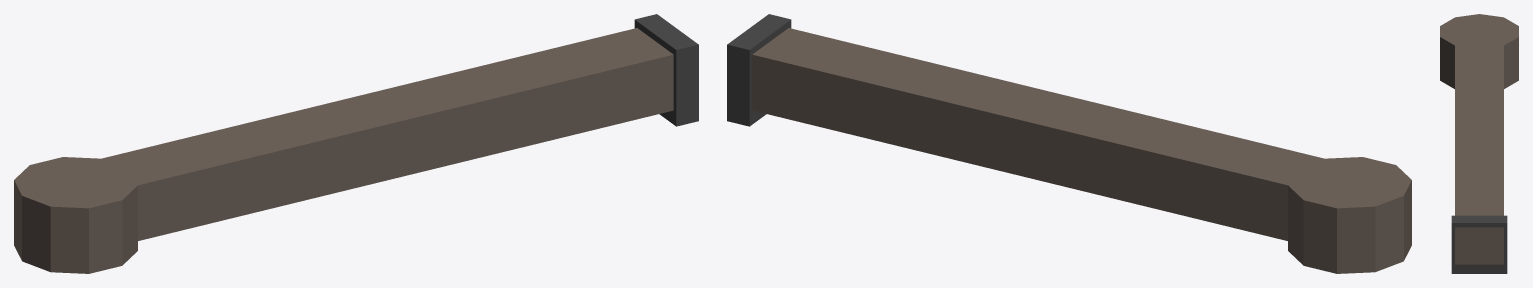
The model's file is SMG4_03_3.fbx.
3 renders of one model, left to right at view 1: azimuth 30°, elevation 25°; view 2: azimuth 150°, elevation 25°; view 3: azimuth 270°, elevation 25°, orthographic. The views are drawn at different scales.
Visible parts, largest first — view 1: SMG4_03_3; view 2: SMG4_03_3; view 3: SMG4_03_3.
Boxes of the visible parts, left/top/right/bottom form: SMG4_03_3: left=14, top=14, right=698, bottom=273; SMG4_03_3: left=727, top=14, right=1411, bottom=273; SMG4_03_3: left=1440, top=14, right=1518, bottom=273.
Size of the model in its own units: 0.3268 by 0.0365 by 0.0511.
